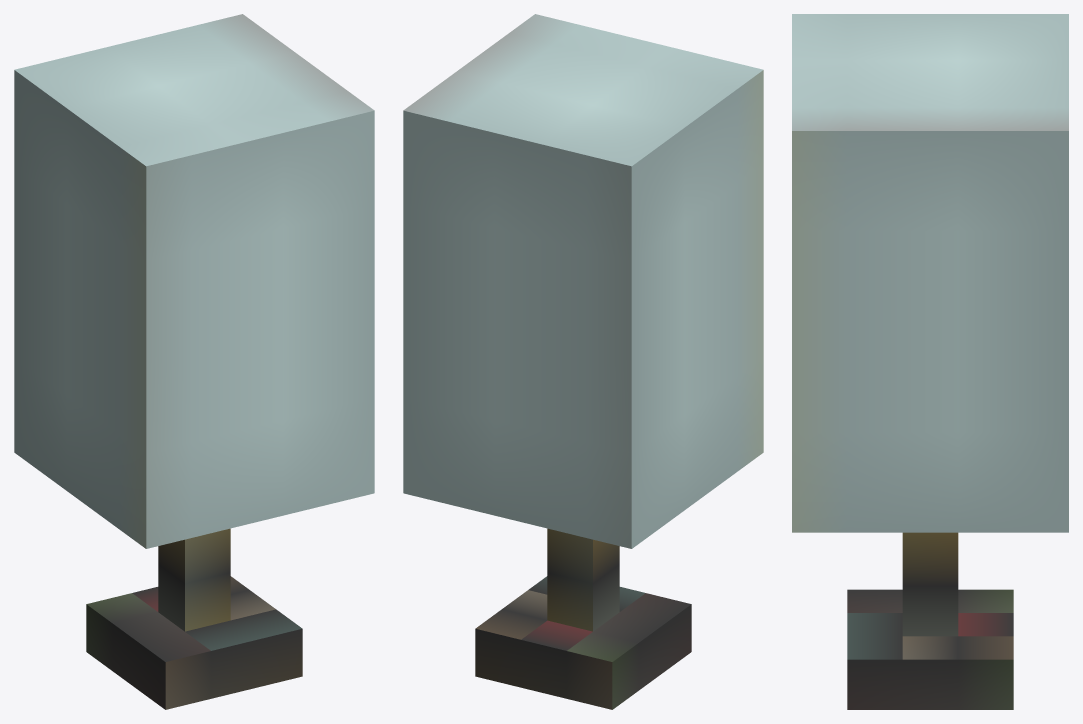
File: LampWhite_01.obj
The picture shows the model from 3 angles, left to right: view 1: azimuth 30°, elevation 25°; view 2: azimuth 150°, elevation 25°; view 3: azimuth 270°, elevation 25°; orthographic projection. The views are drawn at different scales.
Visible parts, largest first — view 1: LampWhite_01; view 2: LampWhite_01; view 3: LampWhite_01.
Boxes of the visible parts, x1,y1,x2,y2 form: LampWhite_01: (14, 14, 374, 709); LampWhite_01: (403, 14, 763, 709); LampWhite_01: (792, 14, 1068, 709).
Bounding box in the file's own units: 0.25 × 0.6 × 0.25.
